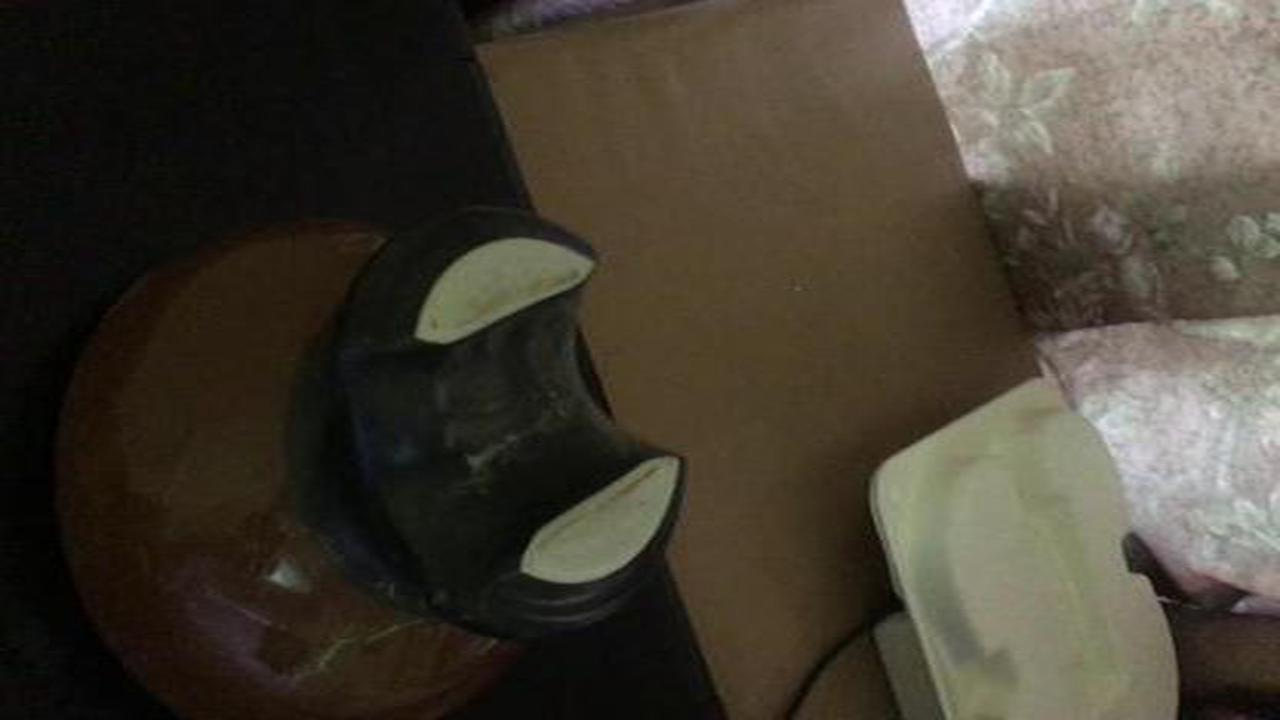insulator_pin: (28, 208, 717, 714)
